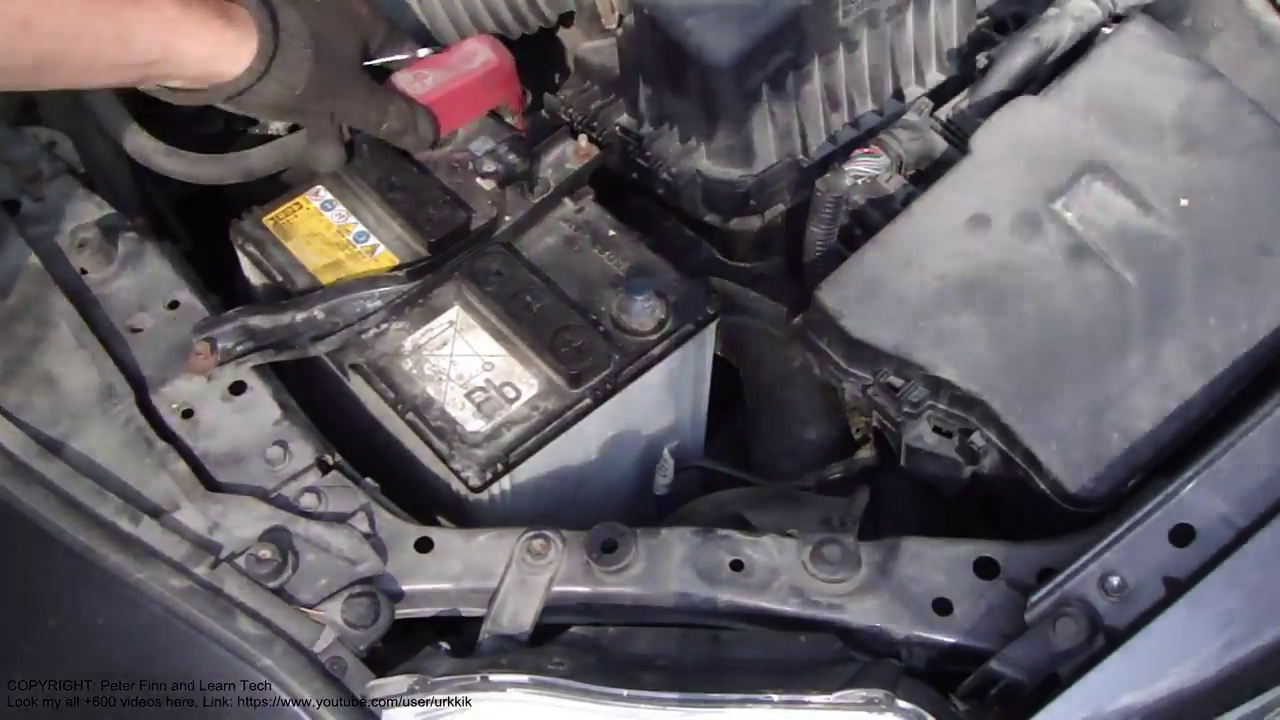battery: (222, 59, 716, 485)
neg_disconnected: (594, 254, 700, 355)
pos_touched: (298, 14, 534, 177)
